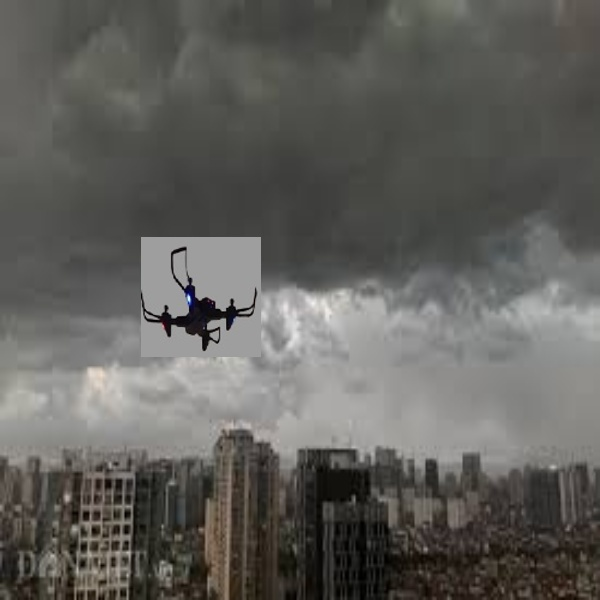drone: (143, 239, 259, 353)
